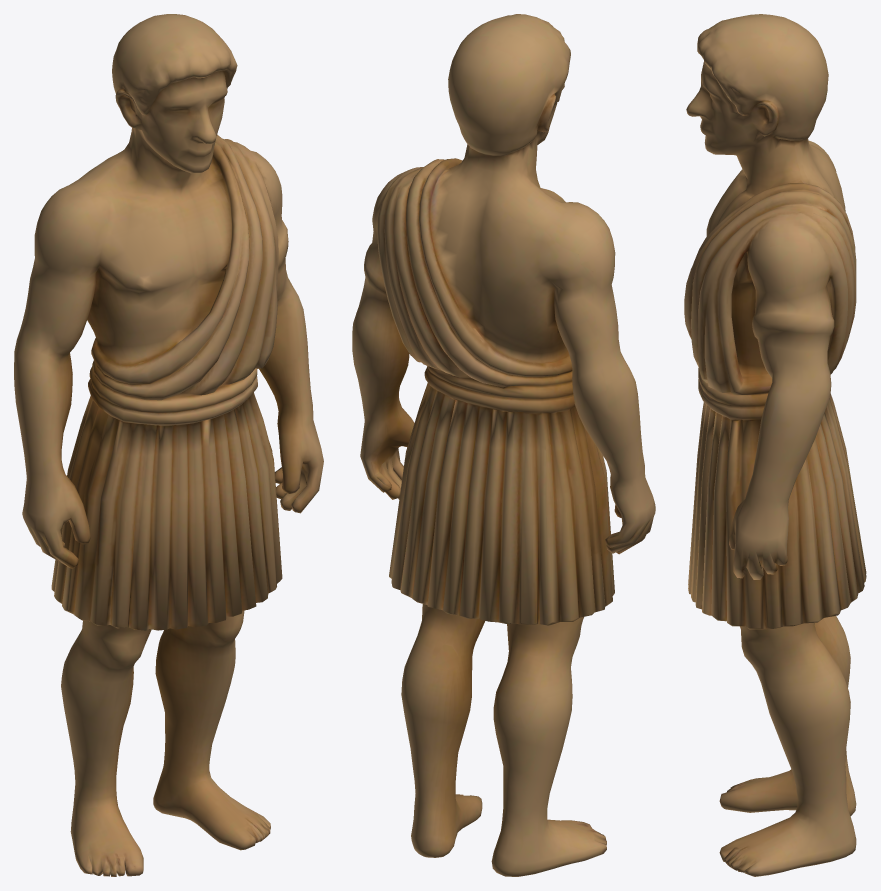
File: Ruins__ancient_19d1f332_v4.cluster.glb
3 renders of one model, left to right at view 1: azimuth 30°, elevation 25°; view 2: azimuth 150°, elevation 25°; view 3: azimuth 270°, elevation 25°, orthographic. The views are drawn at different scales.
Parts seen in each view (by area): view 1: material; view 2: material; view 3: material.
Boxes of the visible parts, x1,y1,x2,y2 form: material: [14, 14, 323, 876]; material: [352, 14, 655, 876]; material: [684, 14, 866, 876].
Bounding box in the file's own units: 0.6932 × 1.9 × 0.3847.
1 material, 1 textured.
